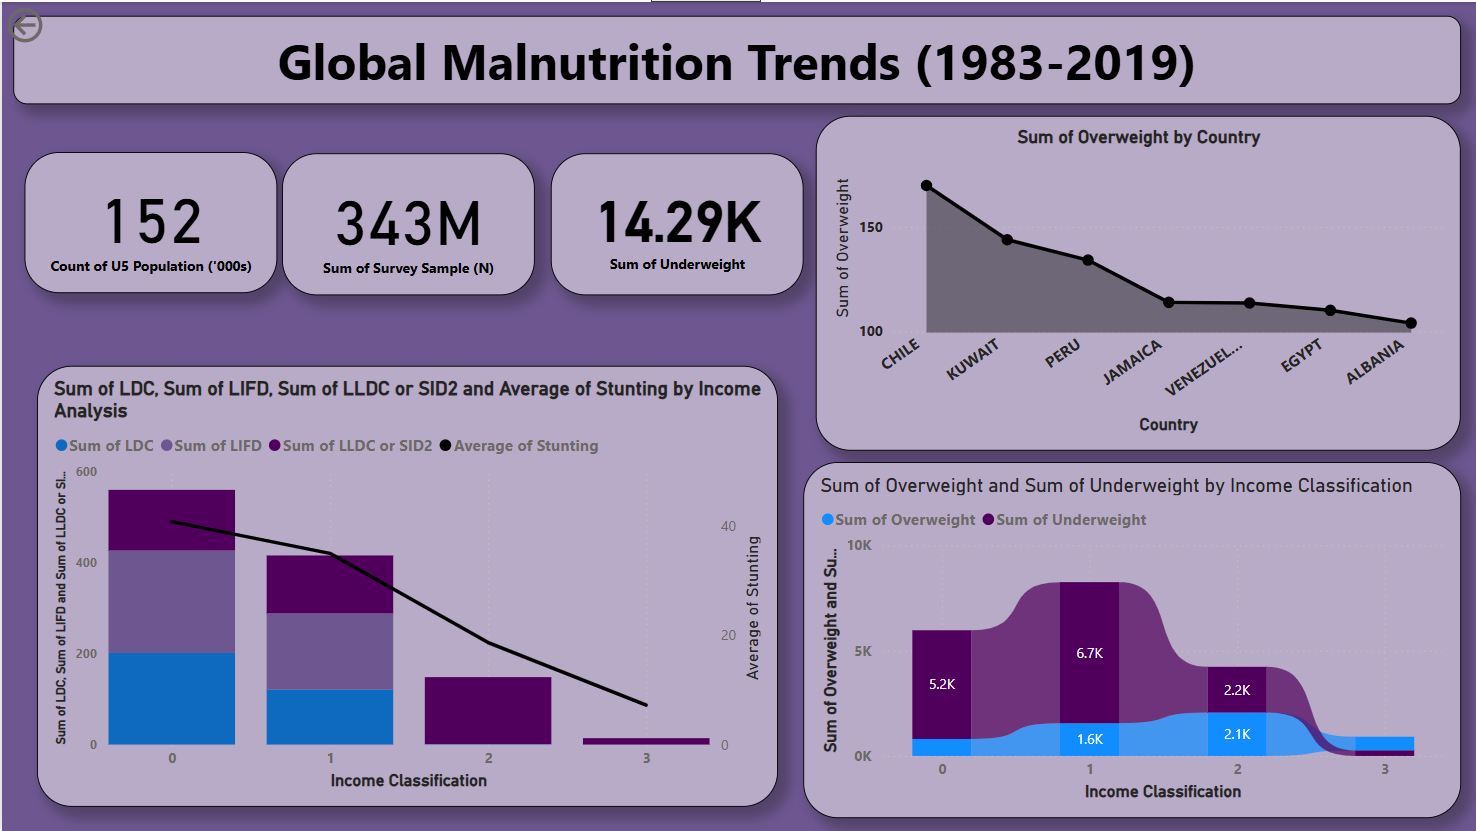

Layout of this report page (visuals, bound fields, positions):
{"tool":"powerbi","page":{"name":"Page 1","canvas":[1280,720],"ordinal":0},"visuals":[{"type":"card","fields":{"Values":["CountNonNull(country-wise-average.U5 Population ('000s))"]},"box":[19.2,130.5,219.2,122.2],"z":0},{"type":"textbox","box":[9.6,12.3,1255.6,76.8],"z":1000},{"type":"lineStackedColumnComboChart","title":"Sum of LDC, Sum of LIFD, Sum of LLDC or SID2 and Average of Stunting by Income Analysis","fields":{"Category":["malnutrition-estimates.Income Classification"],"Y":["Sum(malnutrition-estimates.LDC)","Sum(malnutrition-estimates.LIFD)","Sum(malnutrition-estimates.LLDC or SID2)"],"Y2":["Avg(malnutrition-estimates.Stunting)"]},"box":[31.1,316.2,643.1,383.2],"z":2000},{"type":"card","fields":{"Values":["Sum(malnutrition-estimates.Survey Sample (N))"]},"box":[242.6,131.3,219.1,123],"z":3000},{"type":"card","fields":{"Values":["Sum(malnutrition-estimates.Underweight)"]},"box":[475.8,131.3,219.1,123],"z":4000},{"type":"actionButton","box":[0,0,100,40],"z":5000},{"type":"stackedAreaChart","fields":{"Category":["malnutrition-estimates.Country"],"Y":["Sum(malnutrition-estimates.Overweight)"]},"box":[705.5,98.4,559,290.6],"z":6000},{"type":"ribbonChart","fields":{"Y":["Sum(malnutrition-estimates.Overweight)","Sum(malnutrition-estimates.Underweight)"],"Category":["malnutrition-estimates.Income Classification"]},"box":[705.5,398.4,559,309.4],"z":7000}]}

Visuals, with their boxes in screenshot pixels (x1, y1, x2, y2), scaled from the page's 1280x720 canvas onto the 1476x831 screenshot:
card - CountNonNull(country-wise-average.U5 Population ('000s)): (22,151,275,292)
textbox: (11,14,1459,103)
"Sum of LDC, Sum of LIFD, Sum of LLDC or SID2 and Average of Stunting by Income Analysis" lineStackedColumnComboChart: (36,365,777,807)
card - Sum(malnutrition-estimates.Survey Sample (N)): (280,152,532,294)
card - Sum(malnutrition-estimates.Underweight): (549,152,801,294)
actionButton: (0,0,115,46)
stackedAreaChart - malnutrition-estimates.Country x Sum(malnutrition-estimates.Overweight): (814,114,1458,449)
ribbonChart - Sum(malnutrition-estimates.Overweight) x Sum(malnutrition-estimates.Underweight): (814,460,1458,817)
